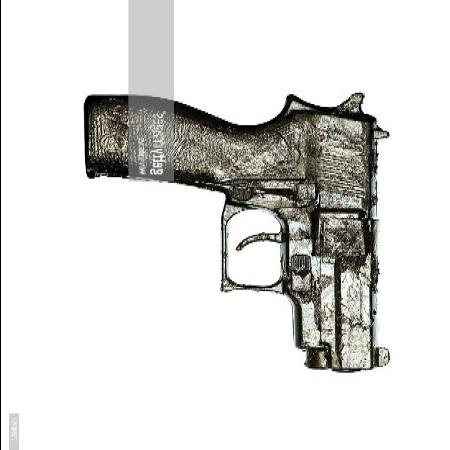Pistol: (82, 87, 398, 378)
